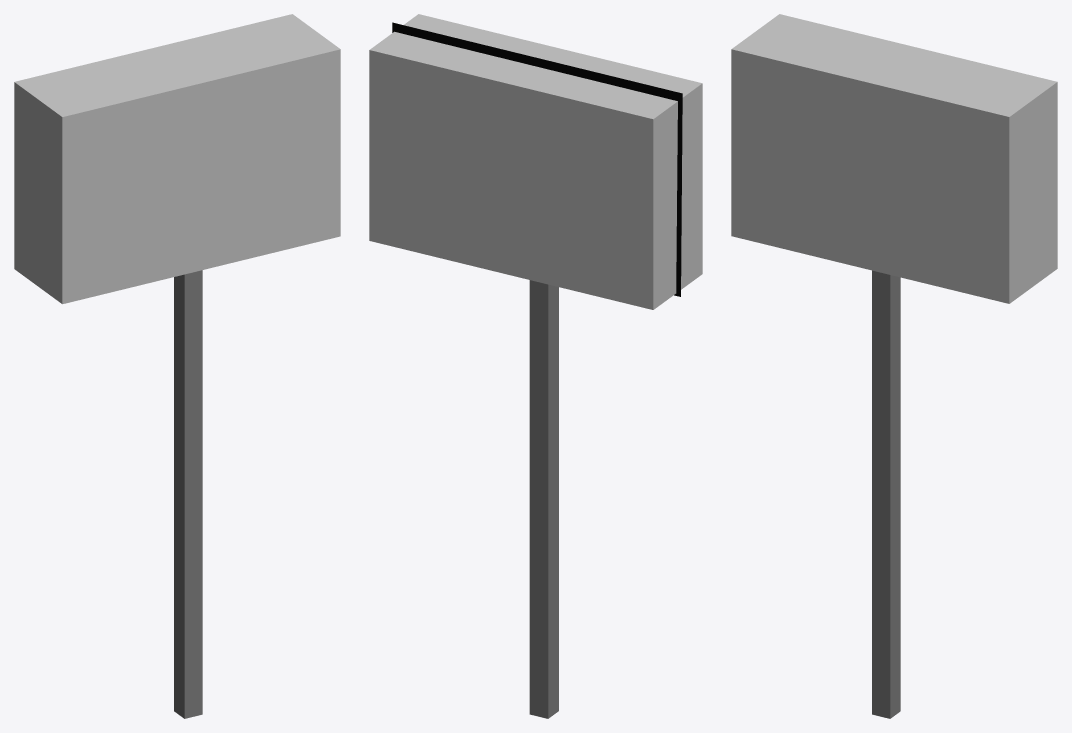
File: rectanglehSign.obj
3 views of the same model, side by side, from view 1: azimuth 30°, elevation 25°; view 2: azimuth 150°, elevation 25°; view 3: azimuth 330°, elevation 25° (orthographic). The views are drawn at different scales.
Parts seen in each view (by area): view 1: Cube.002, Cube.001; view 2: Cube.002, Cube.001, Plane_Plane.001; view 3: Cube.002, Cube.001.
Part boxes in pixels (x1,y1,x2,y2): Cube.002: (14,14,340,304); Cube.001: (174,270,202,718); Cube.002: (369,14,702,309); Cube.001: (529,280,558,718); Plane_Plane.001: (392,22,682,296); Cube.002: (731,14,1057,303); Cube.001: (872,270,900,718).
Bounding box in the file's own units: 3.07 × 6.69 × 0.9.
